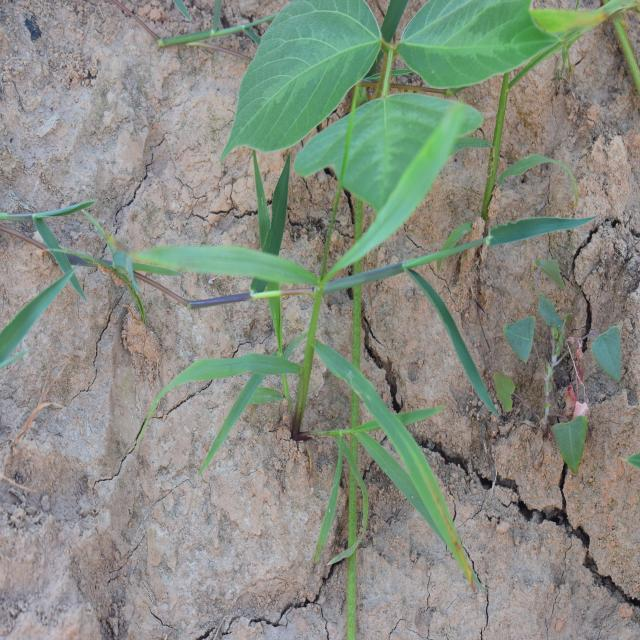green_foxtail: (140, 136, 443, 504)
